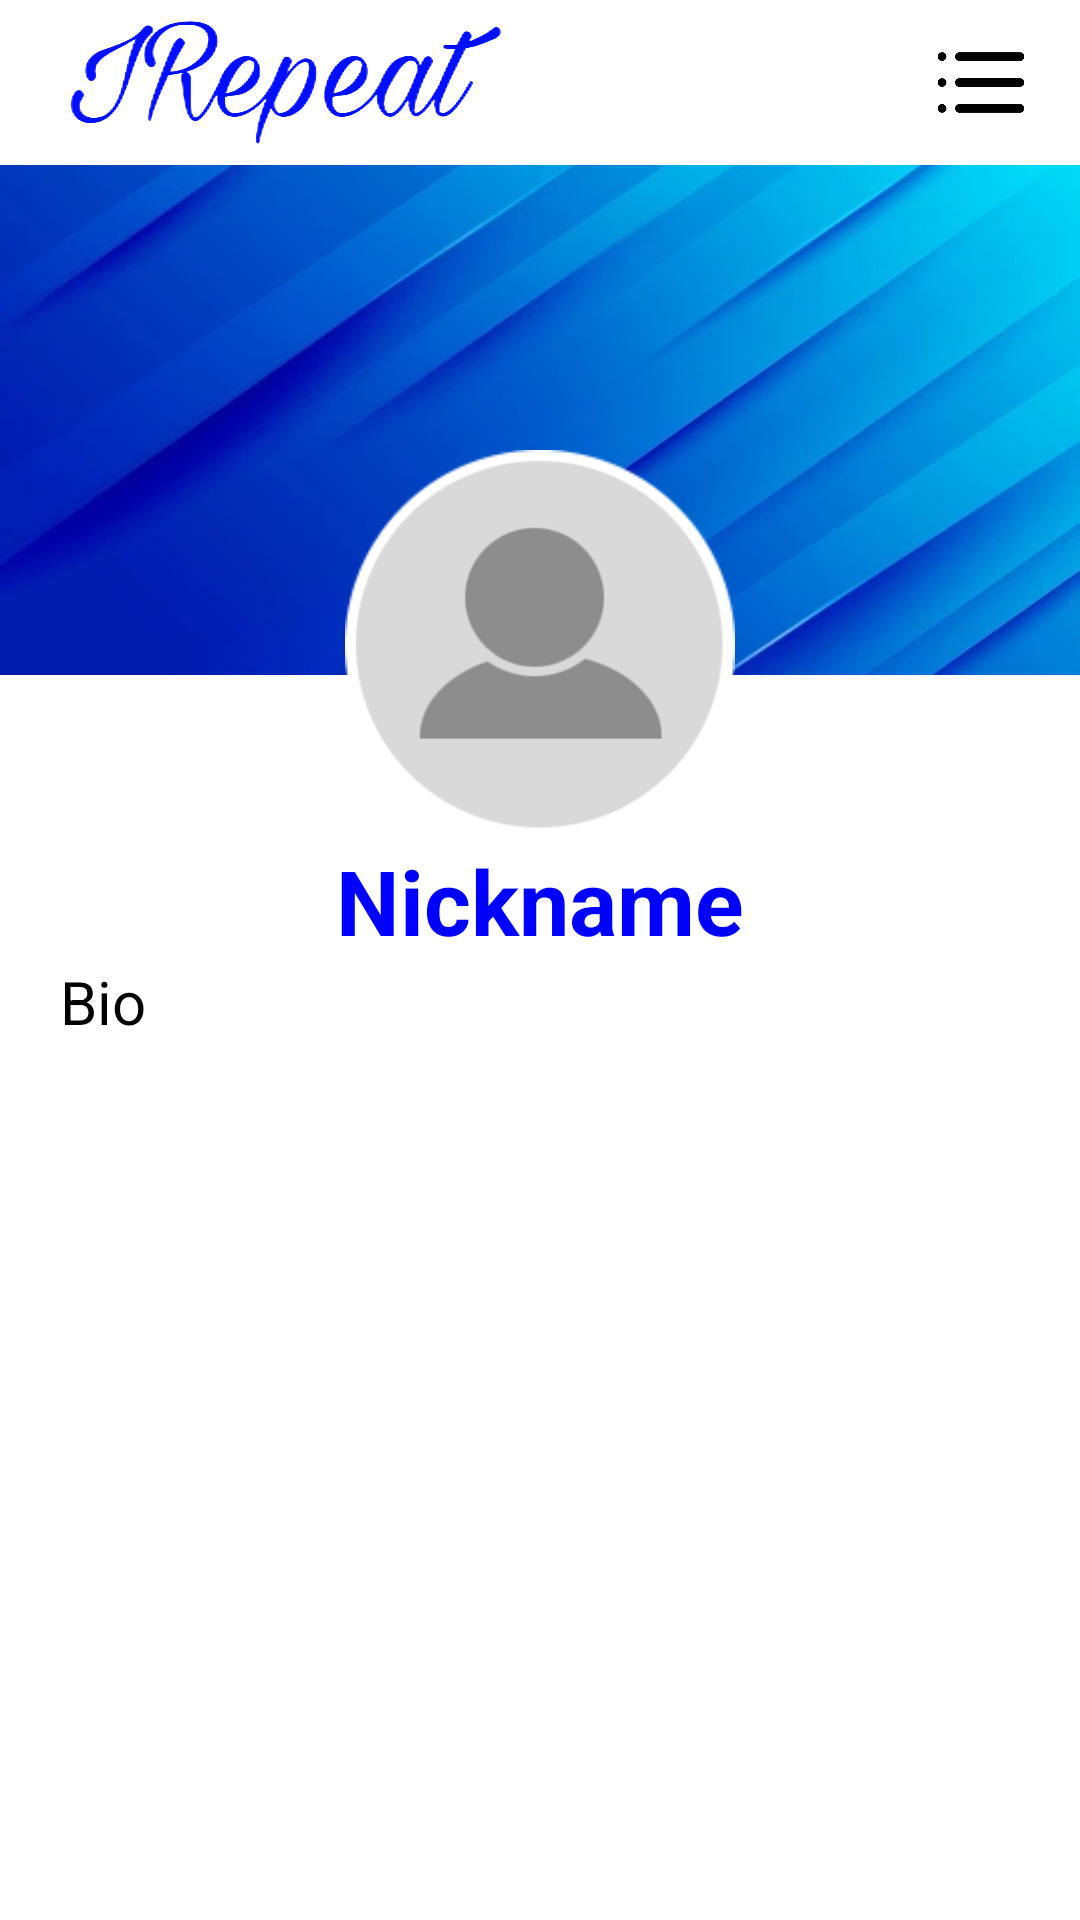

Screen size 1080 x 1920. Icon name, then its box in pixels as box=[x1, y1, x2, y2]:
menu: box=[938, 52, 1024, 113]
